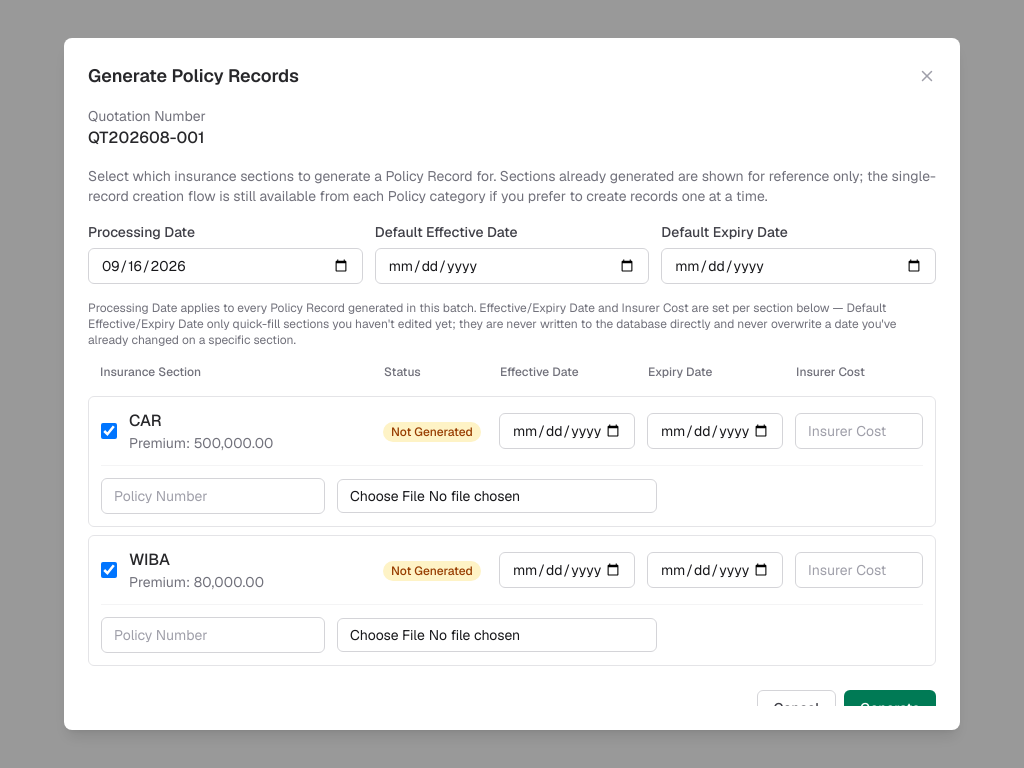
GeneratePolicyRecordsModal — per-section dates › changing the Default Effective Date again keeps updating only still-untouched rows
Type "2026-09-01" into the date field labelled "Default Effective Date" at (512, 266), box [375,248,649,284]
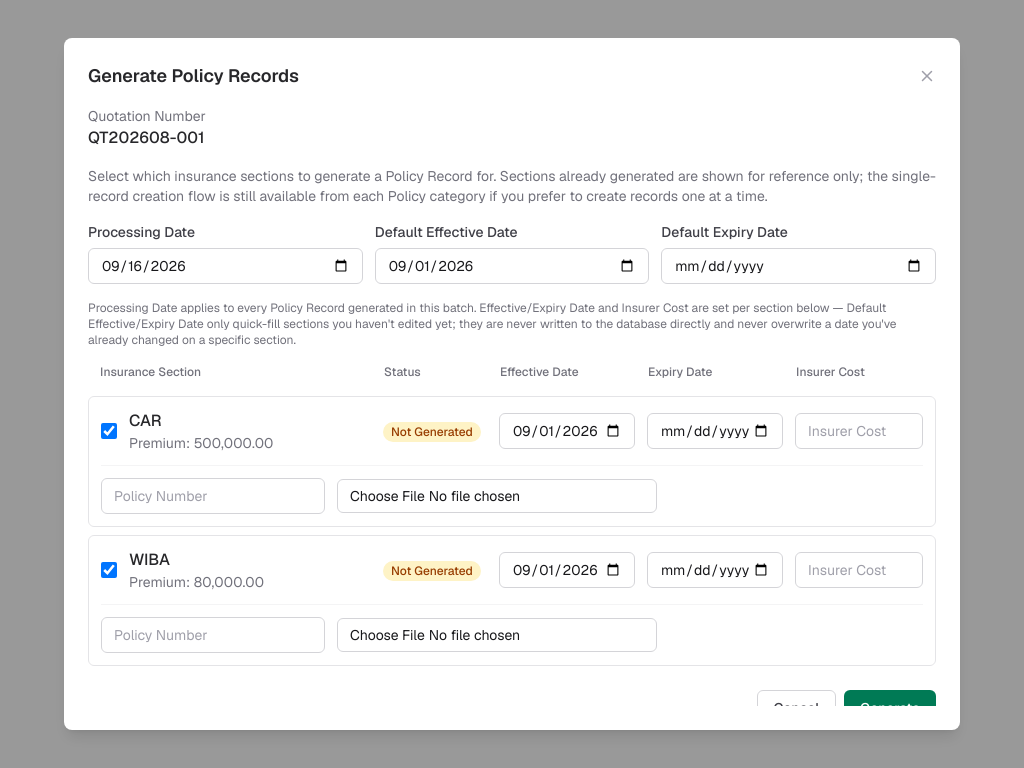
Note: User now directly edits WIBA.
Type "2026-10-10" into the date field named "Effective Date — WIBA" at (567, 570), box [499,552,635,588]
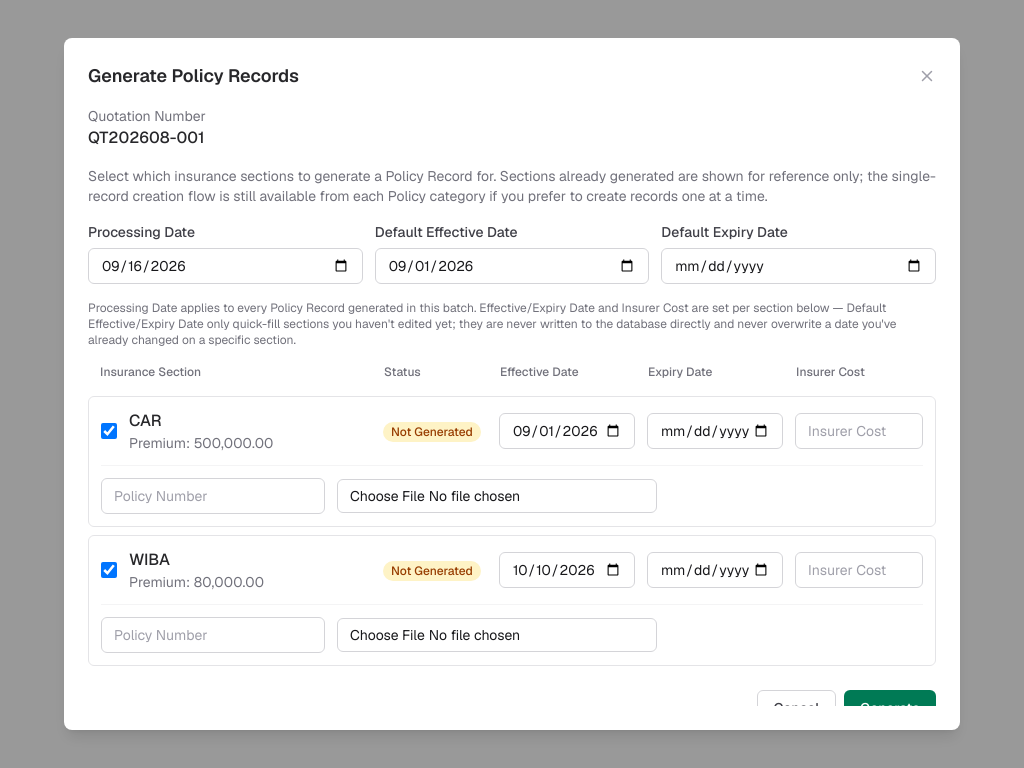
Note: Default changes again.
Type "2026-11-11" into the date field labelled "Default Effective Date" at (512, 266), box [375,248,649,284]
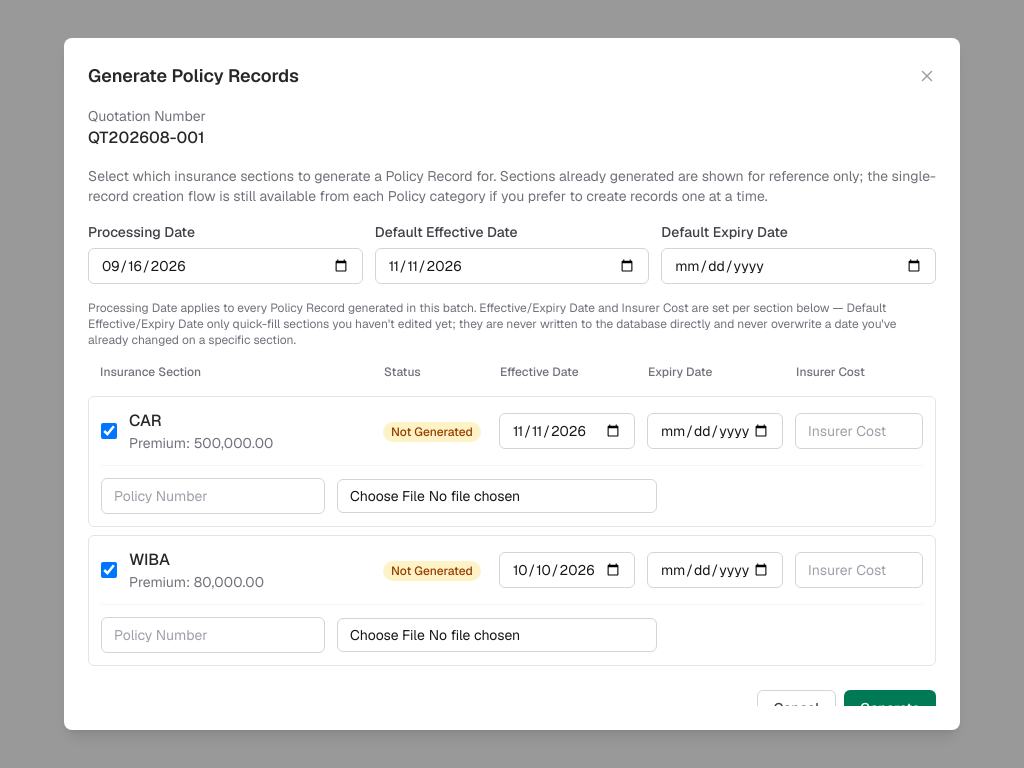
Result: the date field named "Effective Date — CAR" holds "2026-11-11" at [499,413,635,449]
